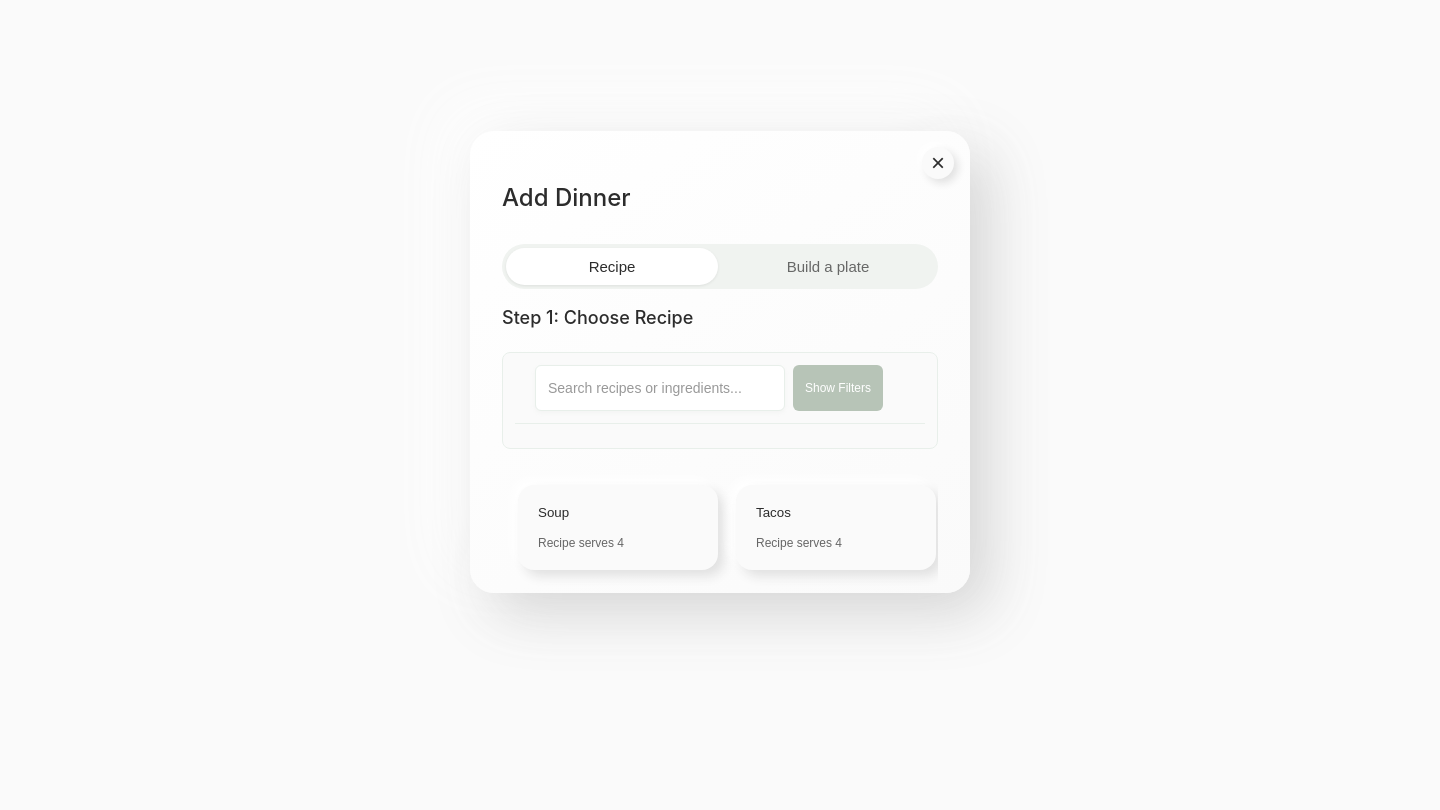
Scenario: adding a recipe › warns before replacing a different recipe on another selected day
Step 1. Click the text "Tacos" → x=773, y=512, box 756,505 -> 791,520
(page scrolled)
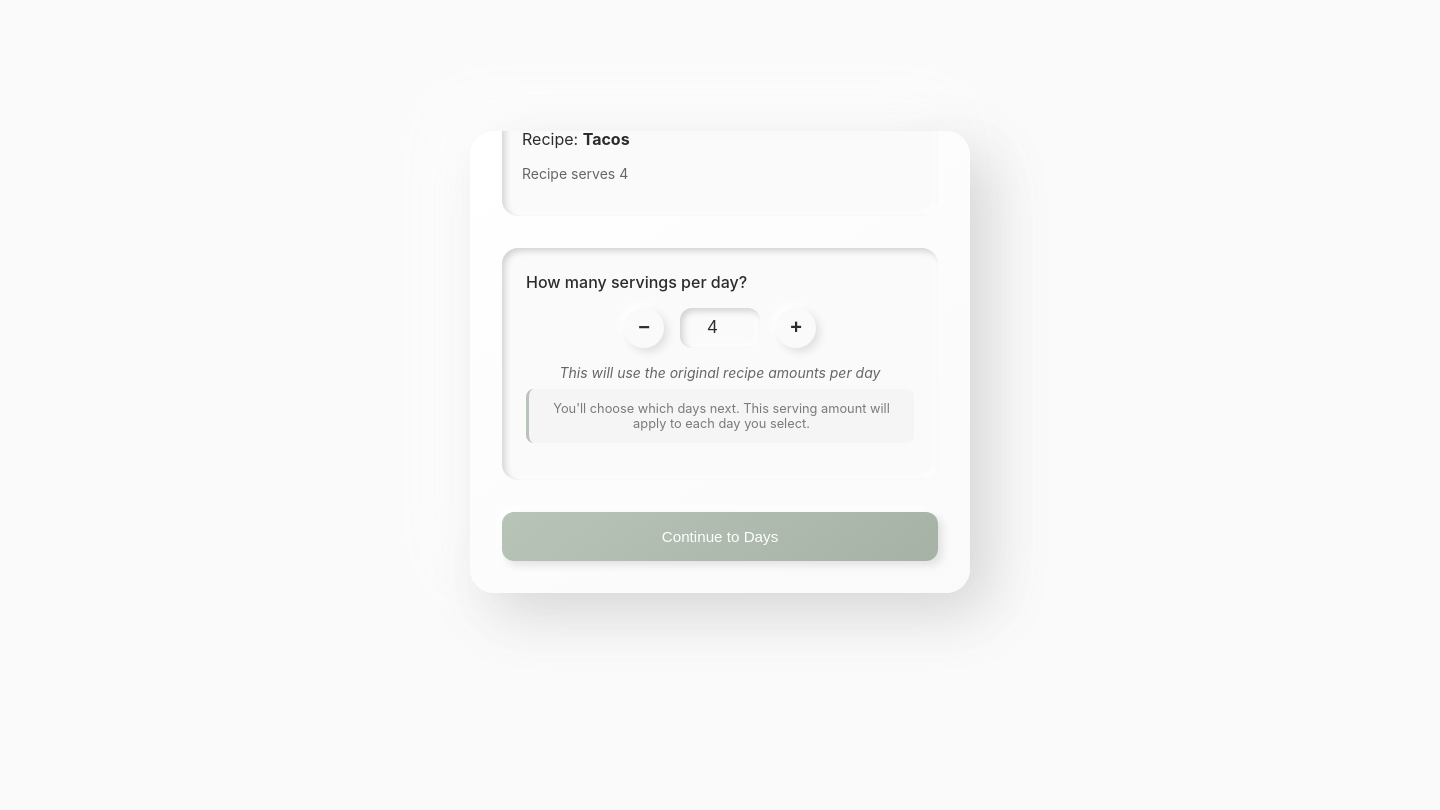
Step 2. Click the button "Continue to Days" → x=720, y=536, box 502,512 -> 938,561
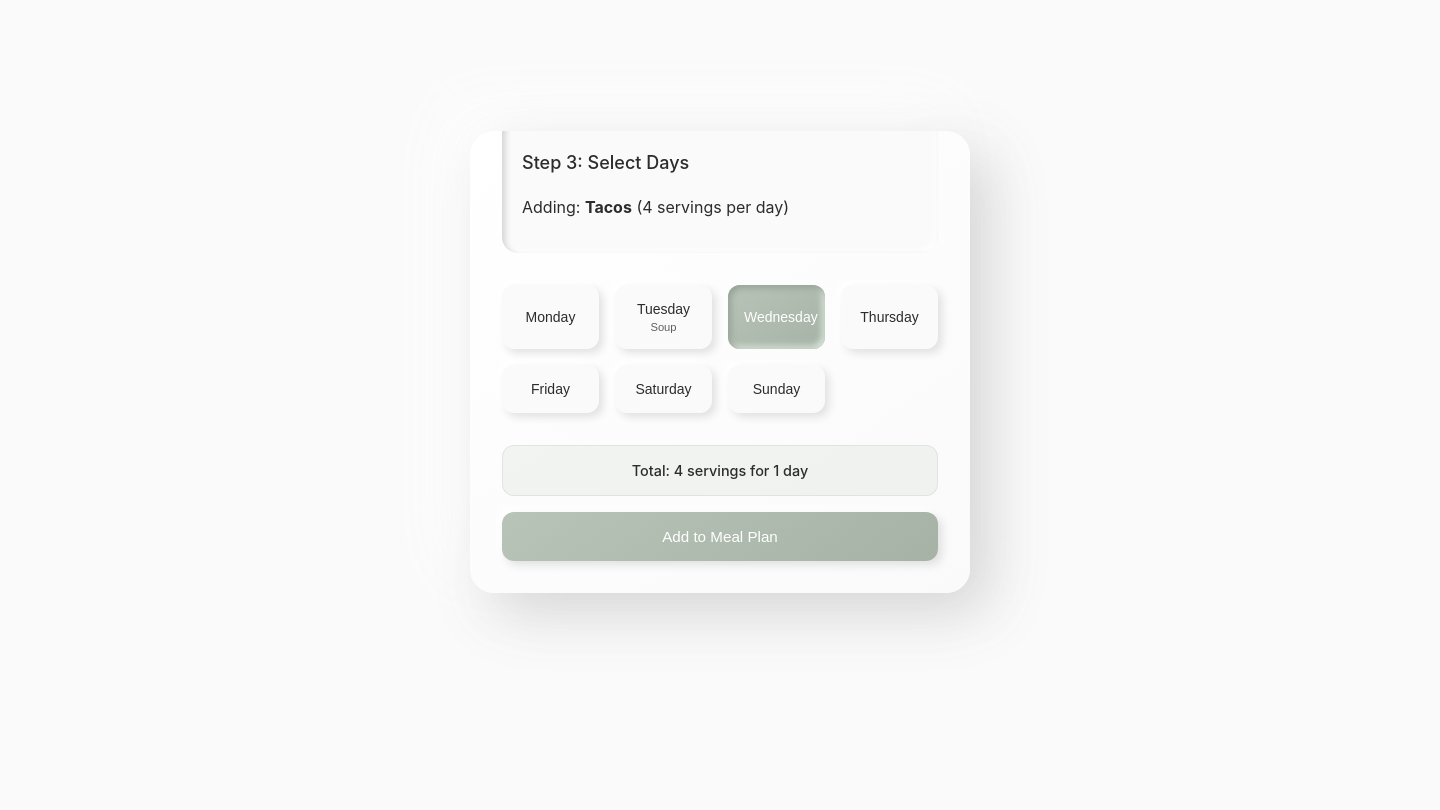
expect the button "Tuesday Soup" is shown: met
Step 3. Click the button "Tuesday Soup" → x=664, y=317, box 615,285 -> 712,349
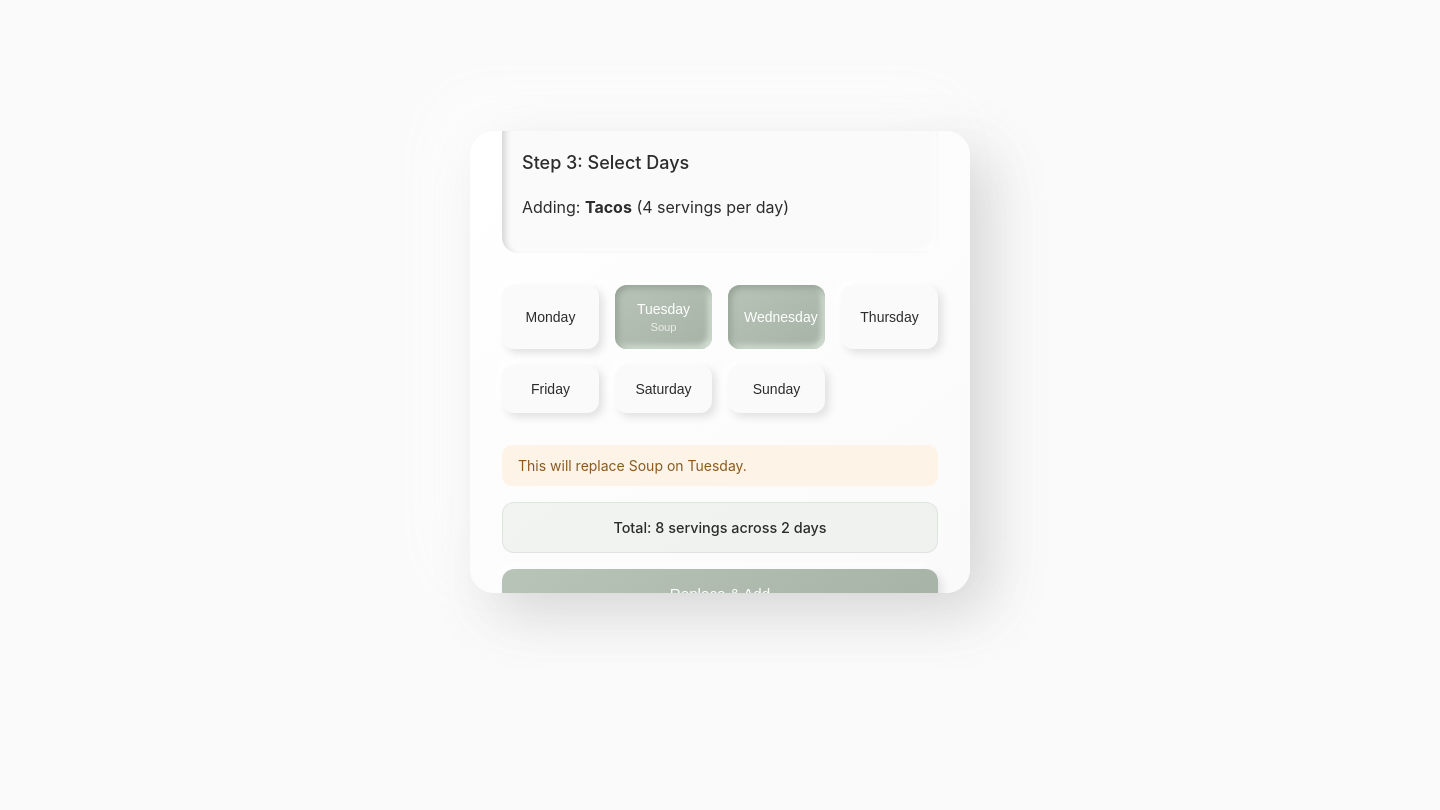
expect the message reads "This will replace Soup on Tuesday.": met, box 502,445 -> 938,486
